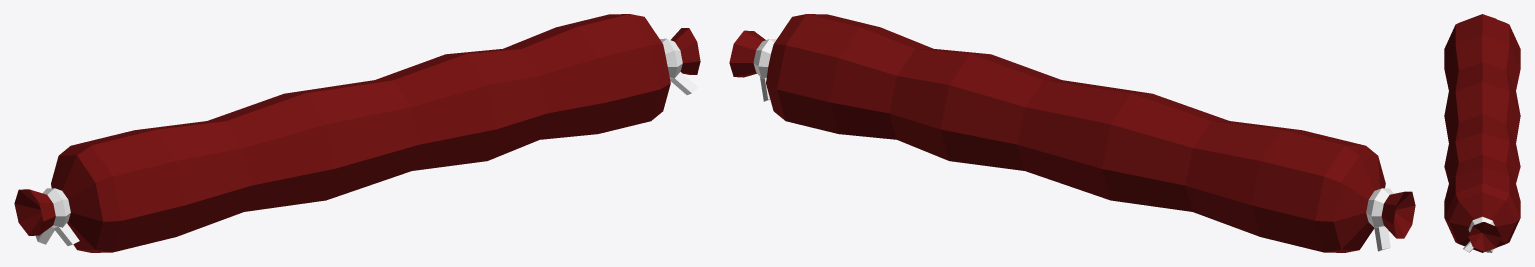
File: PT_Sausage_01.fbx
3 renders of one model, left to right at view 1: azimuth 30°, elevation 25°; view 2: azimuth 150°, elevation 25°; view 3: azimuth 270°, elevation 25°, orthographic. The views are drawn at different scales.
Parts seen in each view (by area): view 1: PT_Sausage_01; view 2: PT_Sausage_01; view 3: PT_Sausage_01.
Boxes of the visible parts, x1,y1,x2,y2 form: PT_Sausage_01: (14,14,700,252); PT_Sausage_01: (729,14,1415,252); PT_Sausage_01: (1444,14,1520,252).
Bounding box in the file's own units: 72.29 × 11.2 × 11.2.
Materials: 1 (1 with a texture image).
